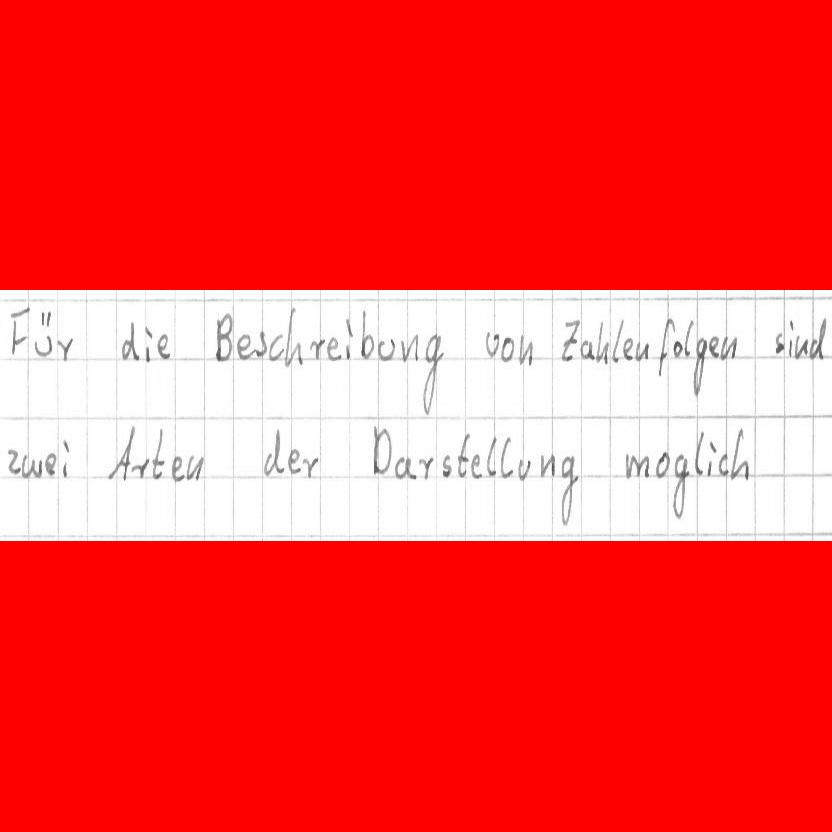Char: (421, 332, 444, 416), (558, 454, 580, 528), (108, 424, 135, 480), (671, 451, 690, 520), (261, 426, 285, 479), (284, 306, 304, 367), (8, 306, 30, 359), (729, 426, 749, 482), (214, 310, 235, 363), (657, 317, 675, 378), (372, 423, 392, 476), (33, 309, 53, 360), (692, 336, 707, 398), (560, 319, 581, 362), (119, 320, 140, 361), (808, 316, 827, 360), (150, 427, 166, 479), (360, 308, 375, 361), (623, 451, 650, 480), (595, 318, 610, 366), (499, 435, 515, 479), (484, 434, 499, 478), (456, 431, 470, 478), (400, 333, 420, 363), (611, 318, 624, 364), (393, 455, 416, 481), (20, 453, 43, 479), (693, 430, 705, 477), (185, 453, 205, 481), (517, 333, 533, 366), (267, 332, 285, 361), (376, 336, 396, 362), (55, 336, 74, 363), (236, 333, 255, 360), (300, 455, 319, 481), (719, 334, 737, 361), (484, 330, 500, 359), (143, 322, 154, 364), (130, 456, 150, 479), (539, 452, 556, 479), (706, 437, 717, 478), (308, 336, 326, 361), (417, 455, 434, 481), (344, 317, 354, 361), (500, 334, 515, 363), (326, 334, 342, 361), (654, 451, 670, 478), (6, 447, 21, 475), (170, 454, 185, 482), (286, 448, 301, 476), (684, 317, 694, 358), (156, 332, 170, 361), (61, 438, 71, 478), (469, 452, 483, 480), (793, 334, 808, 360), (255, 329, 268, 358), (516, 457, 531, 482), (578, 338, 595, 360), (44, 451, 57, 478), (620, 336, 634, 361), (707, 335, 720, 360), (440, 453, 452, 479), (635, 340, 649, 362), (717, 452, 729, 477), (787, 318, 794, 359), (774, 331, 784, 355), (672, 339, 683, 359)
